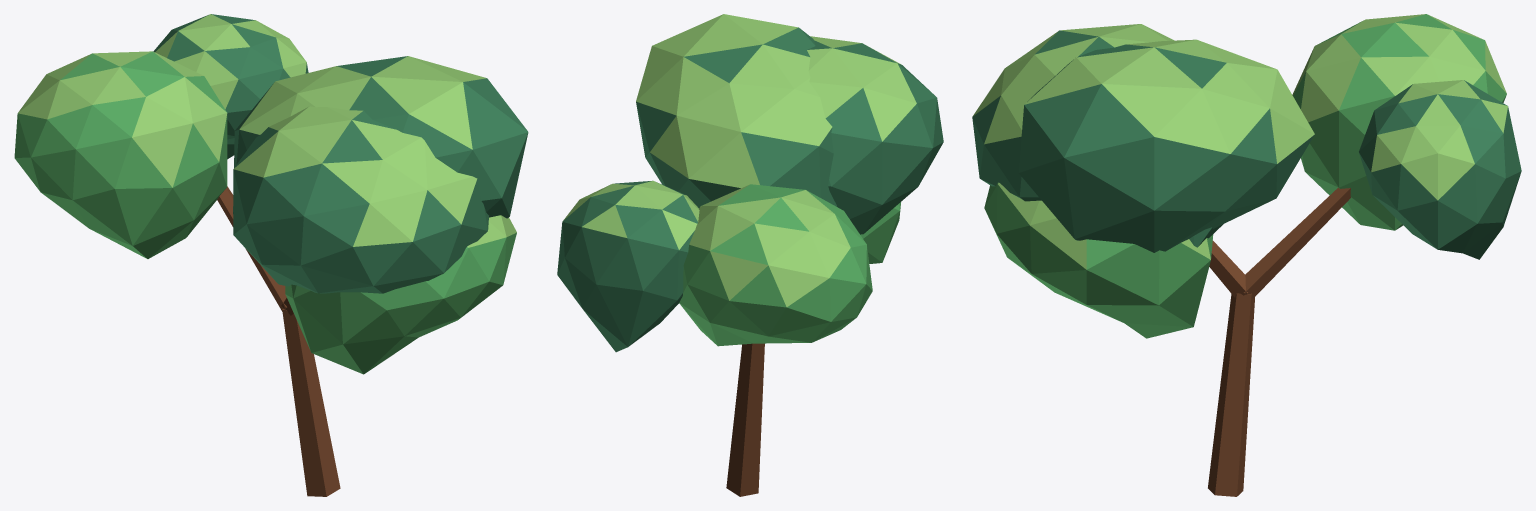
File: bush_broadleaf_b.glb
3 views of the same model, side by side, from view 1: azimuth 30°, elevation 25°; view 2: azimuth 150°, elevation 25°; view 3: azimuth 270°, elevation 25° (orthographic). The views are drawn at different scales.
Parts seen in each view (by area): view 1: BushBroadleafB; view 2: BushBroadleafB; view 3: BushBroadleafB.
Boxes of the visible parts, x1=… form: BushBroadleafB: x1=14, y1=14, x2=528, y2=496; BushBroadleafB: x1=557, y1=14, x2=943, y2=496; BushBroadleafB: x1=972, y1=14, x2=1521, y2=496.
Bounding box in the file's own units: 1.57 × 1.85 × 2.04.
